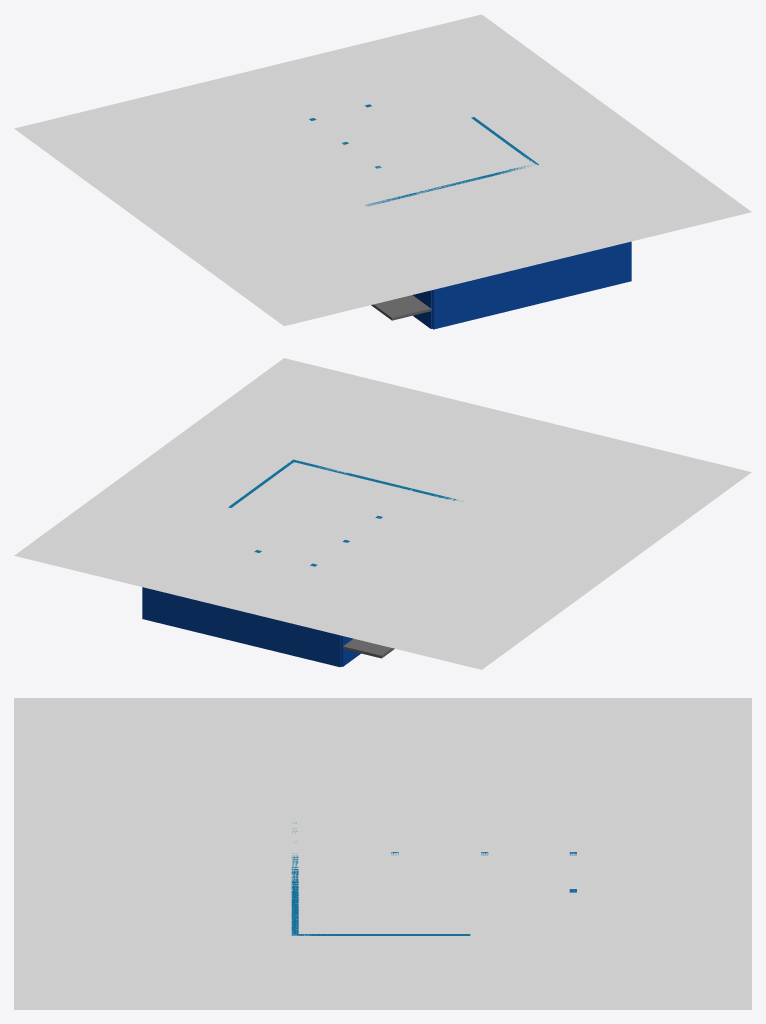
Rendered from scenario.fbx.
3 views of the same model, one above another, from view 1: azimuth 30°, elevation 25°; view 2: azimuth 150°, elevation 25°; view 3: azimuth 270°, elevation 25° (orthographic). The views are drawn at different scales.
Parts seen in each view (by area): view 1: Chao; view 2: Chao; view 3: Chao.
Part boxes in pixels (x1=…): Chao: x1=14, y1=14, x2=751, y2=329; Chao: x1=14, y1=358, x2=751, y2=669; Chao: x1=14, y1=698, x2=751, y2=1009.
Size of the model in its own units: 2000 by 198 by 2000.
